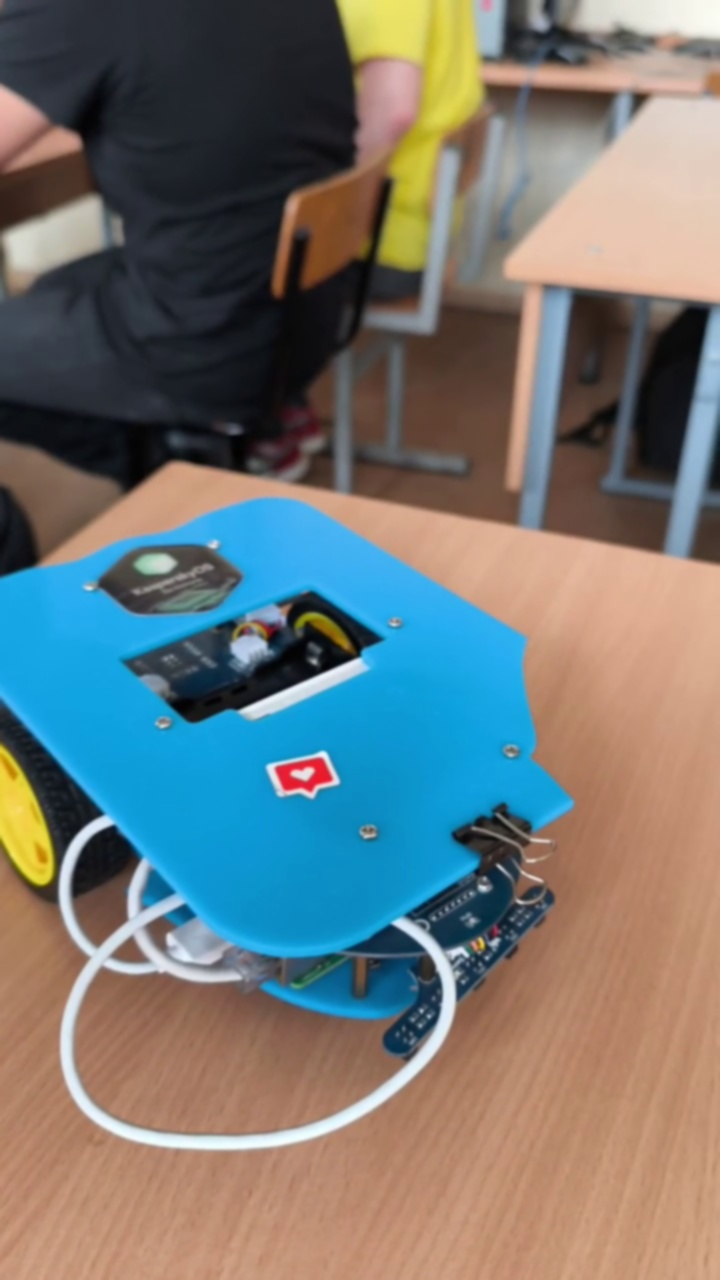robot: (1, 492, 578, 1153)
